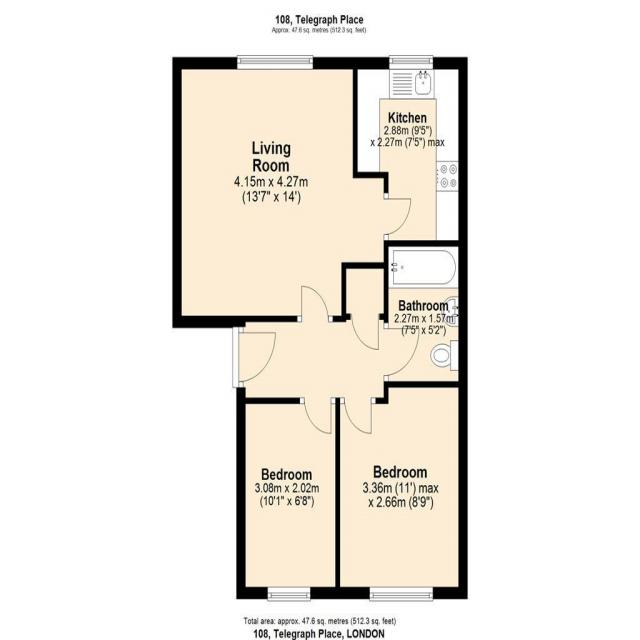DOOR: (232, 326, 277, 390), (384, 321, 420, 383), (296, 284, 334, 322), (299, 397, 336, 436), (383, 192, 412, 241), (339, 397, 376, 435)
ROOM: (172, 55, 411, 329), (334, 381, 468, 603), (352, 54, 468, 246), (236, 397, 341, 602)
WINDOW: (235, 53, 314, 71), (369, 586, 434, 602), (267, 586, 311, 603), (388, 54, 434, 70)
